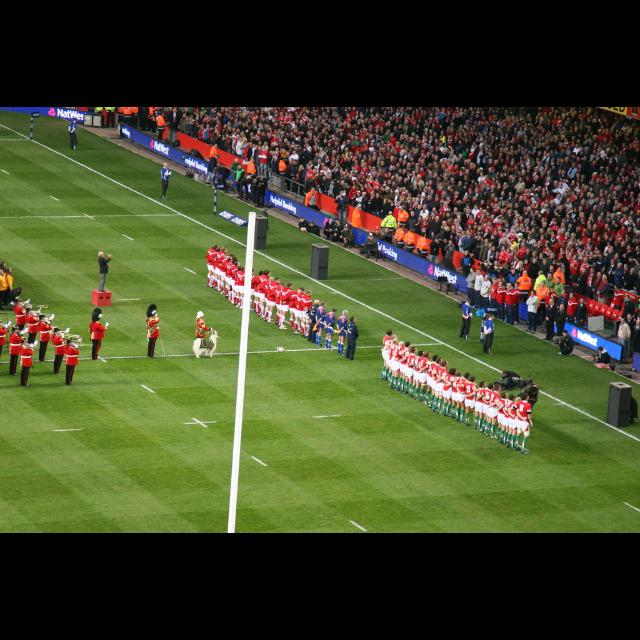Football: (278, 346, 282, 352)
